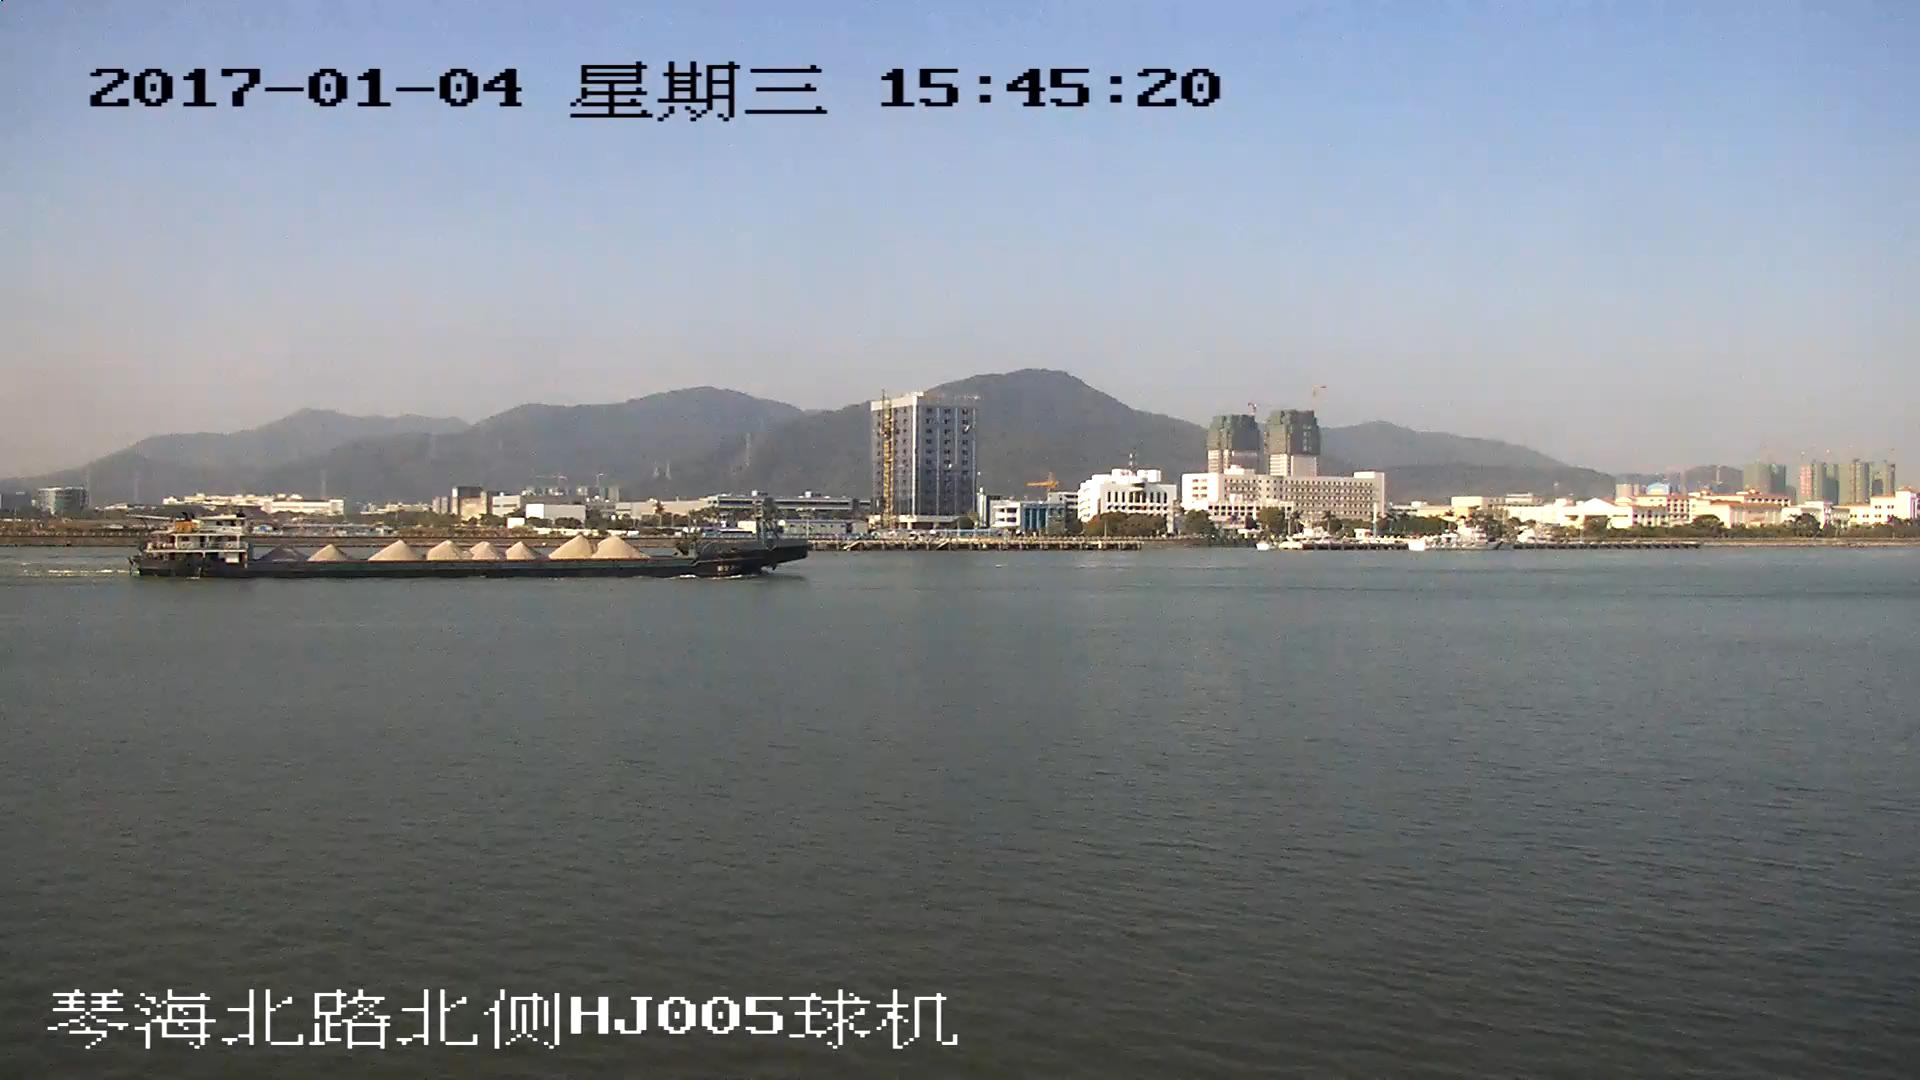ore carrier: (129, 512, 811, 578)
